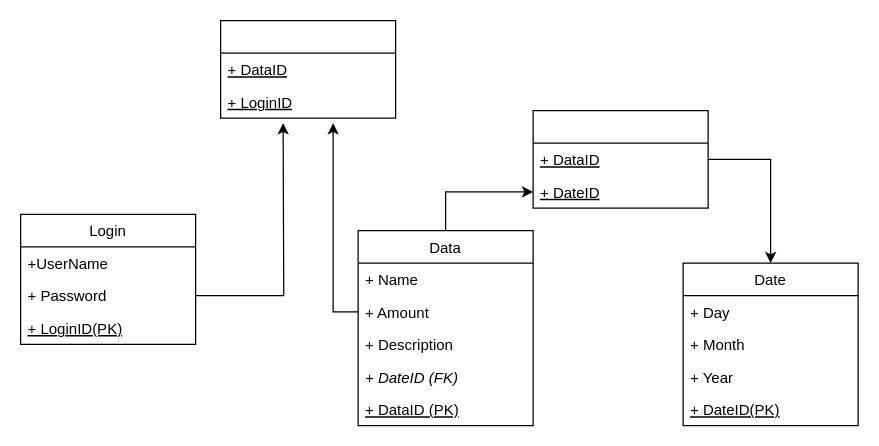
Image size: 879x446. Some labels were removed from this diagram. Each missing label, with the box of its shape:
DateData: (532, 109, 708, 208)
LoginData: (219, 19, 396, 118)
